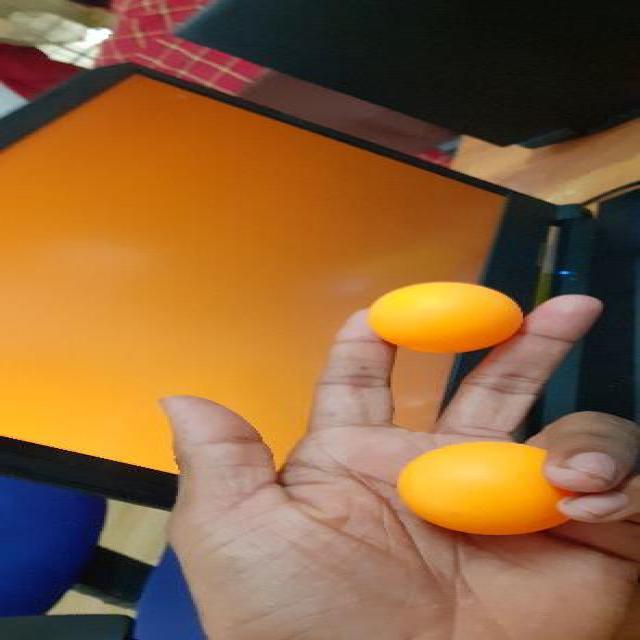oball: (392, 441, 570, 533), (370, 280, 522, 352)
